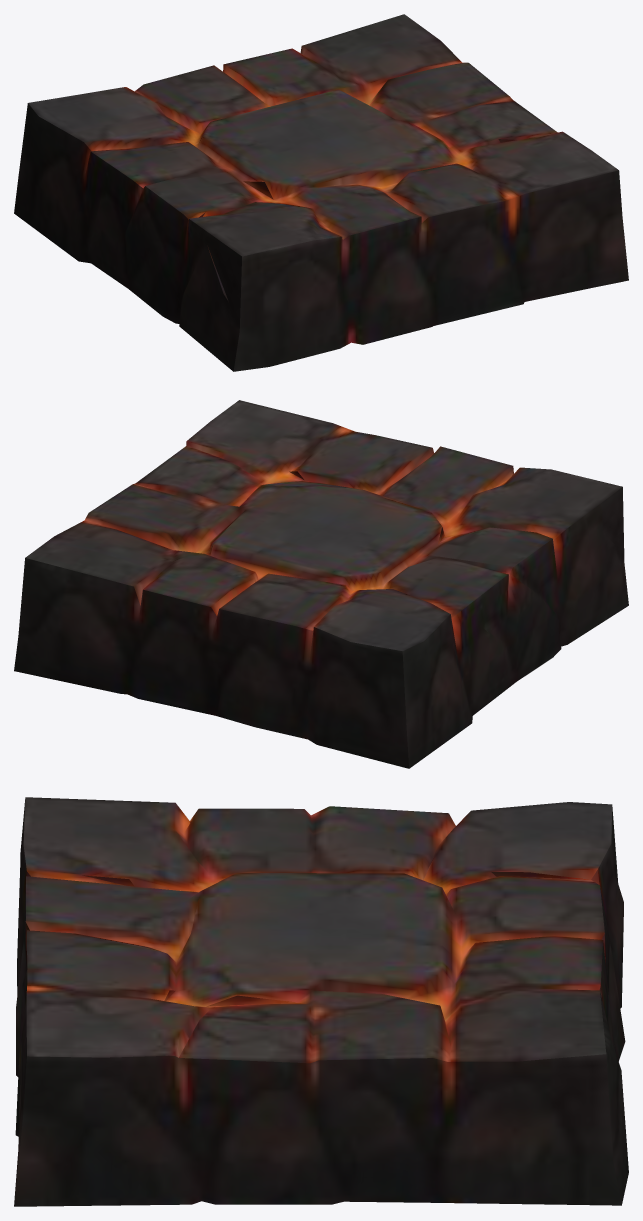
The model's file is b_braises_sol_1.glb.
The picture shows the model from 3 angles, top to bottom: view 1: azimuth 30°, elevation 25°; view 2: azimuth 150°, elevation 25°; view 3: azimuth 270°, elevation 25°; orthographic projection. The views are drawn at different scales.
Visible parts, largest first — view 1: geometry_0; view 2: geometry_0; view 3: geometry_0.
Part boxes in pixels (<box>): geometry_0: <box>14,14,628,371</box>; geometry_0: <box>14,400,628,768</box>; geometry_0: <box>14,797,628,1206</box>.
Size of the model in its own units: 1 by 0.2862 by 1.
1 material, 1 textured.
